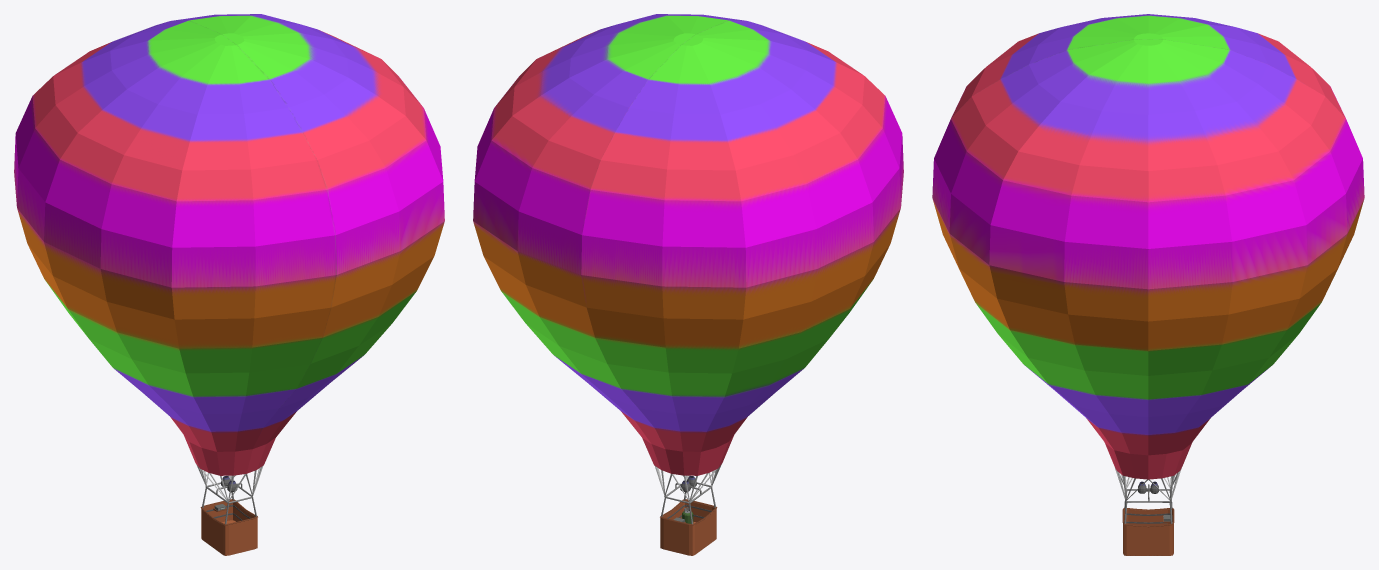
The model's file is HotAirBalloonLowPoly.fbx.
3 views of the same model, side by side, from view 1: azimuth 30°, elevation 25°; view 2: azimuth 150°, elevation 25°; view 3: azimuth 270°, elevation 25° (orthographic).
Parts seen in each view (by area): view 1: HotAirBalloon; view 2: HotAirBalloon; view 3: HotAirBalloon.
Part boxes in pixels (box(x1,y1,x2,y2)): HotAirBalloon: box(14, 14, 444, 555); HotAirBalloon: box(473, 14, 903, 555); HotAirBalloon: box(932, 14, 1364, 555).
Bounding box in the file's own units: 2919 × 3786 × 2919.
2 materials, 2 textured.
